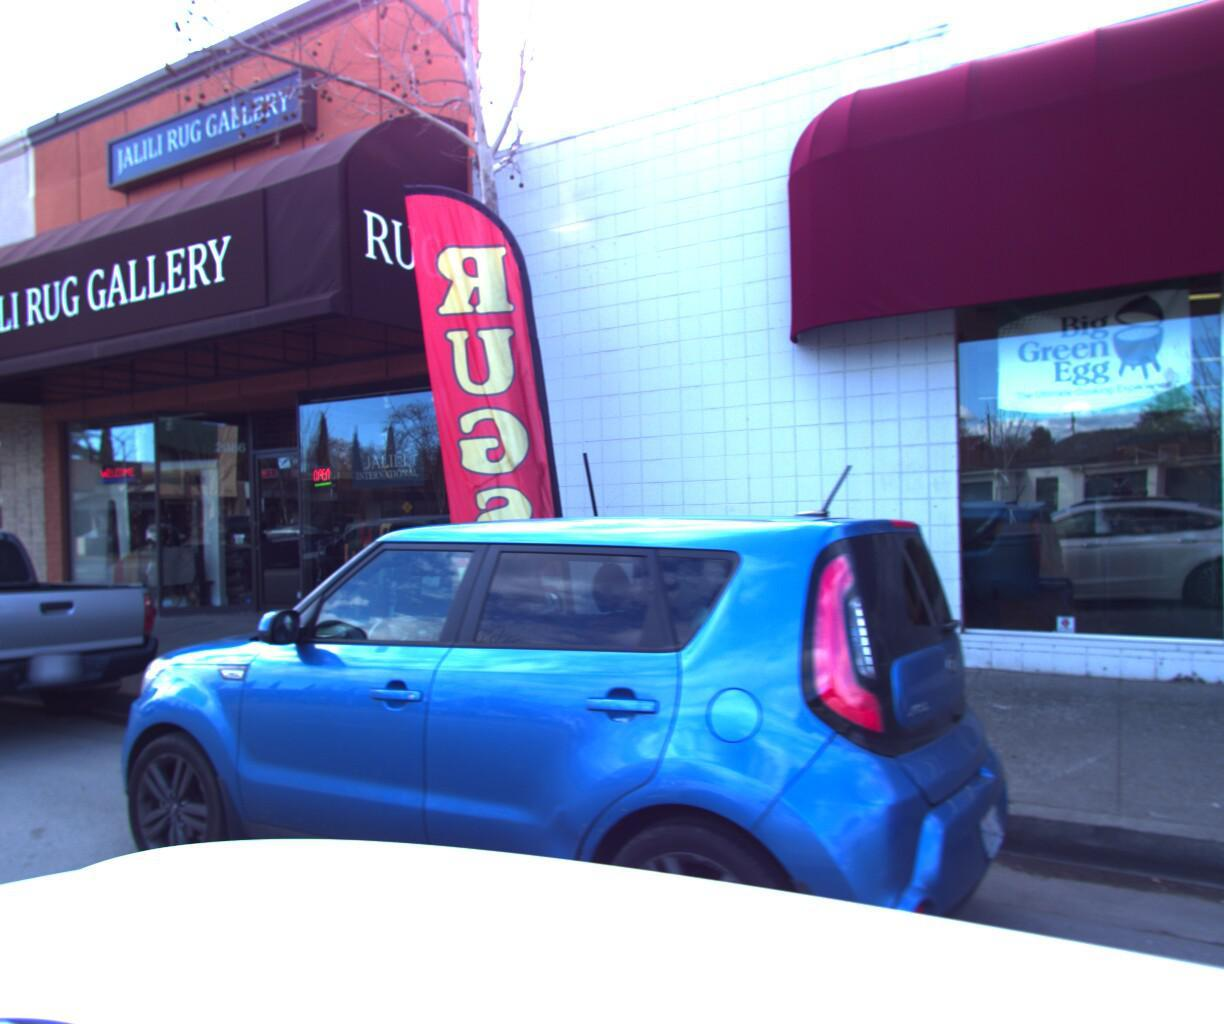car: (63, 508, 1025, 1024), (0, 519, 169, 771)
